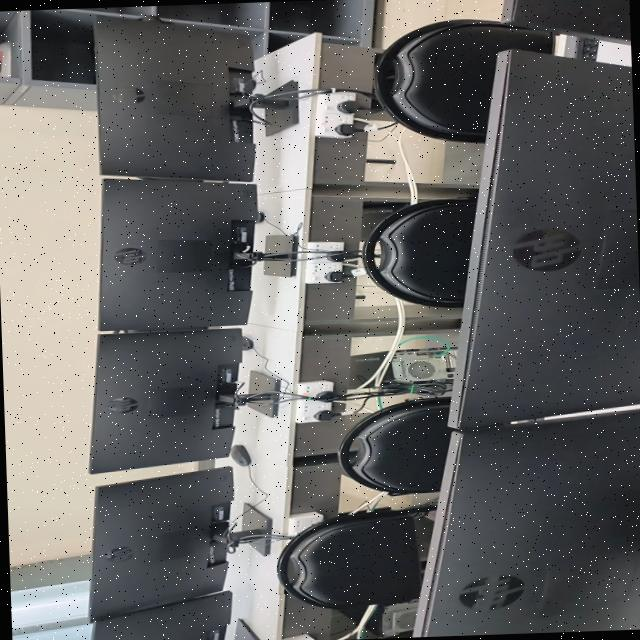Chair: (372, 19, 552, 142), (275, 502, 434, 613), (361, 199, 475, 307), (336, 397, 451, 494), (358, 548, 371, 560)
Monitor: (448, 50, 640, 425), (415, 410, 640, 637), (94, 16, 253, 181), (99, 179, 257, 330), (88, 466, 232, 621), (88, 329, 241, 472), (90, 591, 230, 640), (501, 0, 631, 43)
Mouse: (228, 445, 250, 466)
